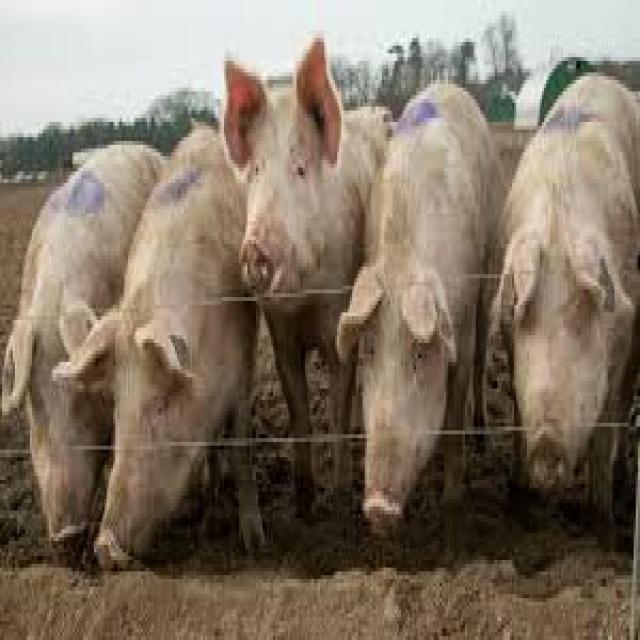Pig: (70, 75, 253, 568), (338, 41, 504, 545), (221, 29, 386, 512), (484, 44, 640, 524)
